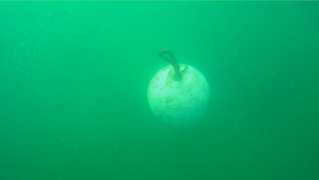buoy: (146, 63, 210, 128)
